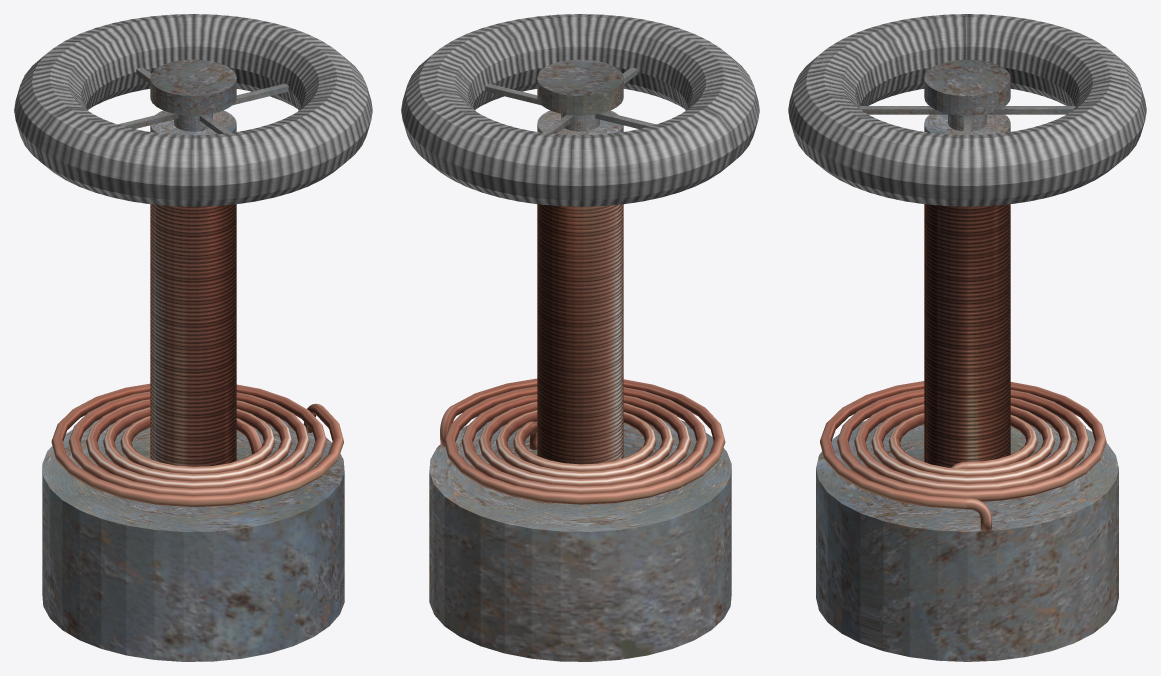
The model's file is AnimationBobine.glb.
3 views of the same model, side by side, from view 1: azimuth 30°, elevation 25°; view 2: azimuth 150°, elevation 25°; view 3: azimuth 270°, elevation 25° (orthographic).
Visible parts, largest first — view 1: Spiral.001; view 2: Spiral.001; view 3: Spiral.001.
Part boxes in pixels (x1,y1,x2,y2): Spiral.001: [14, 14, 372, 661]; Spiral.001: [401, 14, 759, 661]; Spiral.001: [788, 14, 1146, 661].
Bounding box in the file's own units: 1.25 × 2 × 1.25.
Materials: 1 (1 with a texture image).
